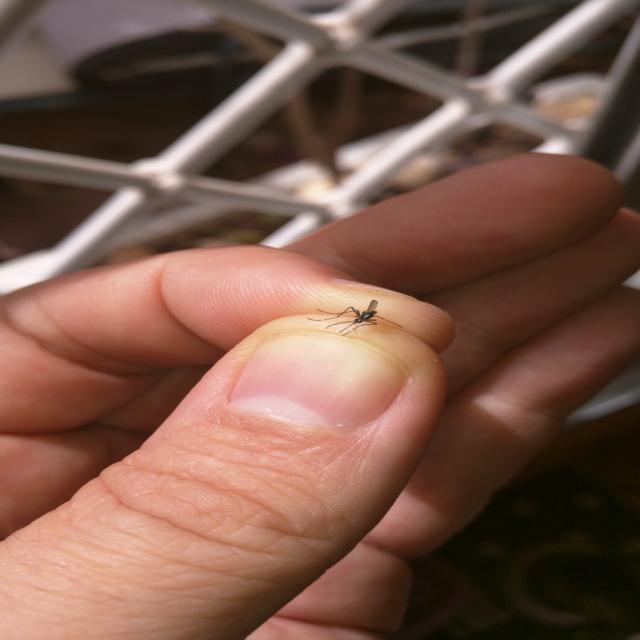albopictus: (312, 297, 397, 338)
